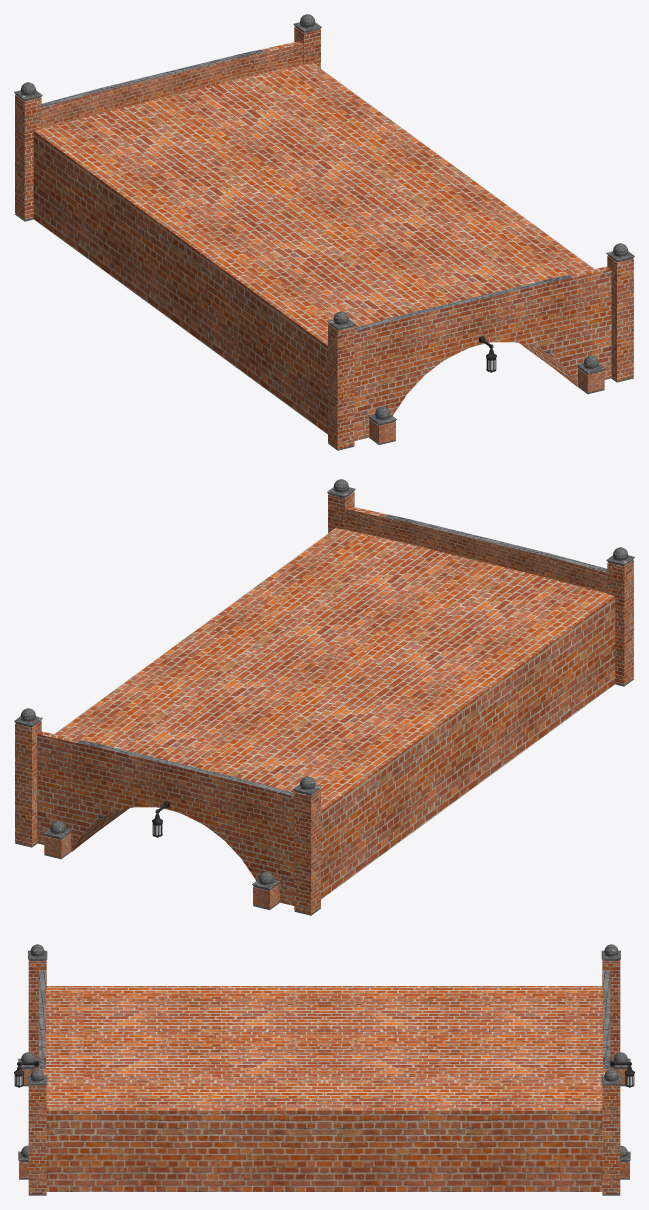
The model's file is Tunnel.fbx.
3 views of the same model, one above another, from view 1: azimuth 30°, elevation 25°; view 2: azimuth 150°, elevation 25°; view 3: azimuth 270°, elevation 25° (orthographic). The views are drawn at different scales.
Visible parts, largest first — view 1: Tunnel_LOD0; view 2: Tunnel_LOD0; view 3: Tunnel_LOD0.
Boxes of the visible parts, bbox=[...] form: Tunnel_LOD0: bbox=[14, 14, 634, 450]; Tunnel_LOD0: bbox=[14, 479, 634, 915]; Tunnel_LOD0: bbox=[14, 944, 634, 1195].
Size of what is drawn, in the model's own units: 5858 by 2502 by 11552.
